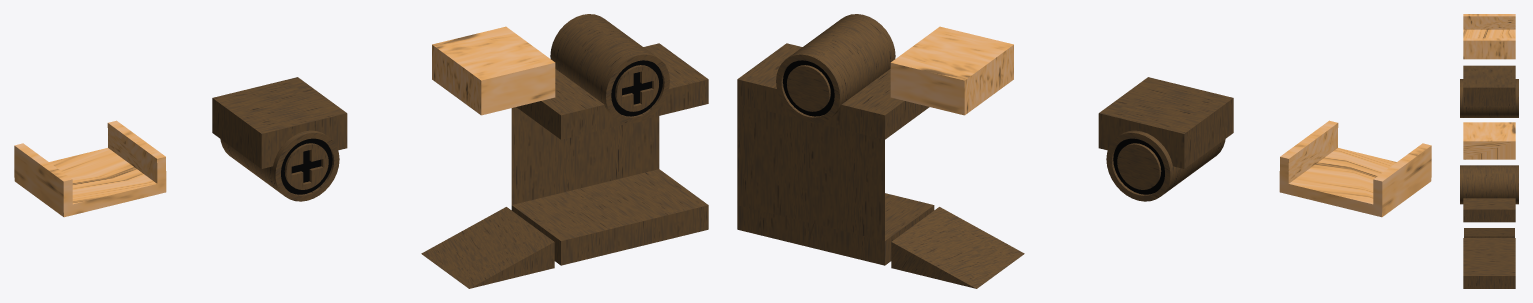
File: level5.fbx
3 views of the same model, side by side, from view 1: azimuth 30°, elevation 25°; view 2: azimuth 150°, elevation 25°; view 3: azimuth 270°, elevation 25° (orthographic). The views are drawn at different scales.
Visible parts, largest first — view 1: Cube.005, SecondFloor.002, Pullable.001, Cube.006, Cube.004, Pullable.002; view 2: Cube.005, SecondFloor.002, Pullable.001, Cube.006, Cube.004, Pullable.002; view 3: SecondFloor.002, Cube.005, Cube.006, Pullable.001, Pullable.002, Cube.004.
Part boxes in pixels (x1,y1,x2,y2): Cube.005: (511, 43, 708, 265); SecondFloor.002: (14, 26, 555, 217); Pullable.001: (550, 14, 669, 123); Cube.006: (212, 77, 347, 168); Cube.004: (421, 207, 554, 288); Pullable.002: (220, 130, 339, 201); Cube.005: (737, 43, 934, 265); SecondFloor.002: (890, 26, 1431, 217); Pullable.001: (776, 14, 895, 123); Cube.006: (1098, 77, 1233, 168); Cube.004: (891, 207, 1024, 288); Pullable.002: (1106, 130, 1225, 201); SecondFloor.002: (1463, 14, 1515, 159); Cube.005: (1463, 198, 1515, 288); Cube.006: (1463, 65, 1515, 105); Pullable.001: (1460, 165, 1518, 204); Pullable.002: (1460, 79, 1518, 117); Cube.004: (1464, 228, 1514, 237).
Size of the model in its own units: 3019 by 450 by 926.
